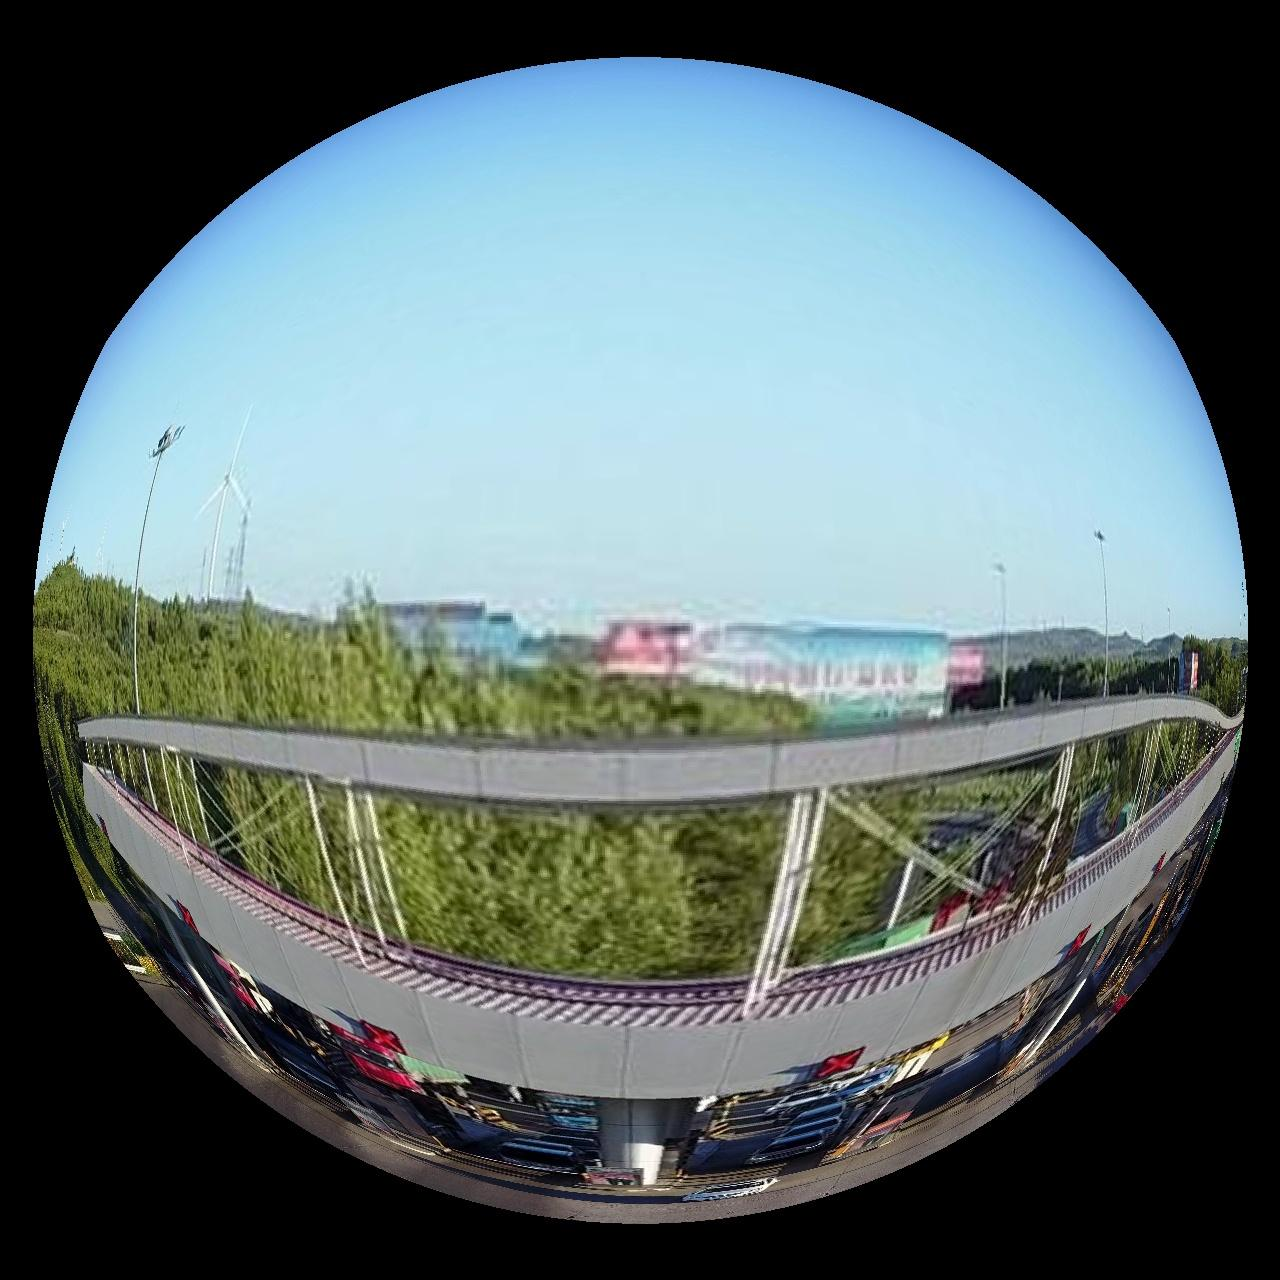trees: (33, 561, 814, 980)
